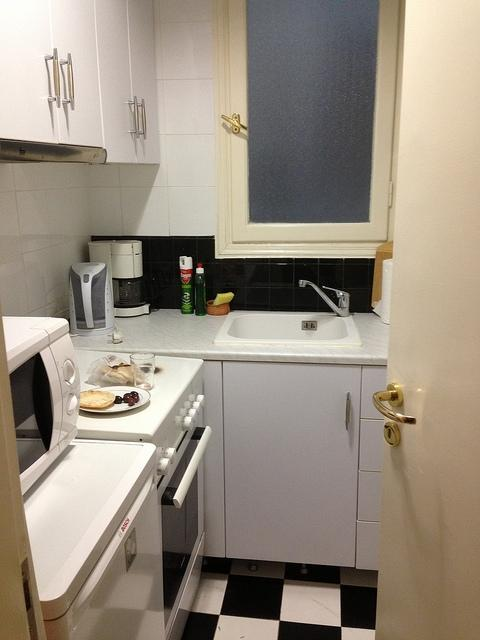grape: (123, 395, 132, 403), (114, 396, 122, 404), (128, 398, 136, 406), (132, 395, 139, 403), (130, 391, 139, 396)
